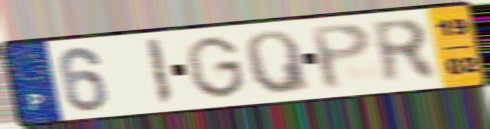6: (56, 44, 110, 114)
G: (182, 34, 250, 100)
I: (142, 36, 176, 108)
P: (306, 20, 375, 93)
Q: (242, 28, 315, 96)
R: (367, 17, 444, 88)
